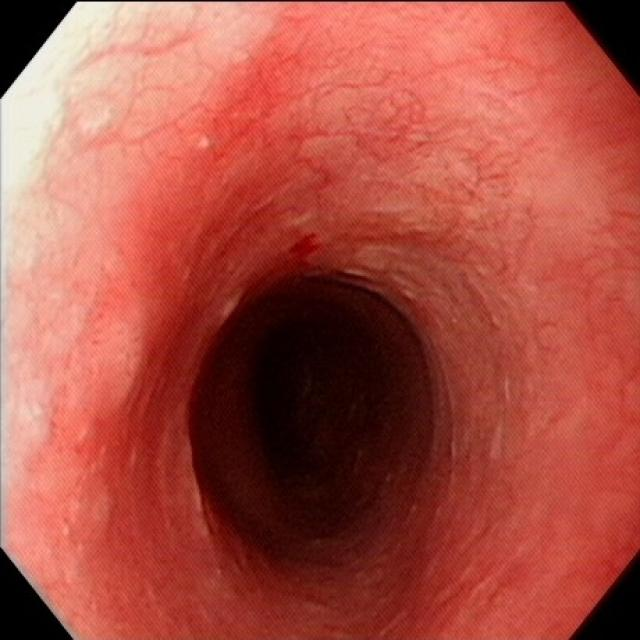C: (282, 232, 321, 257)
E: (190, 274, 448, 569)
